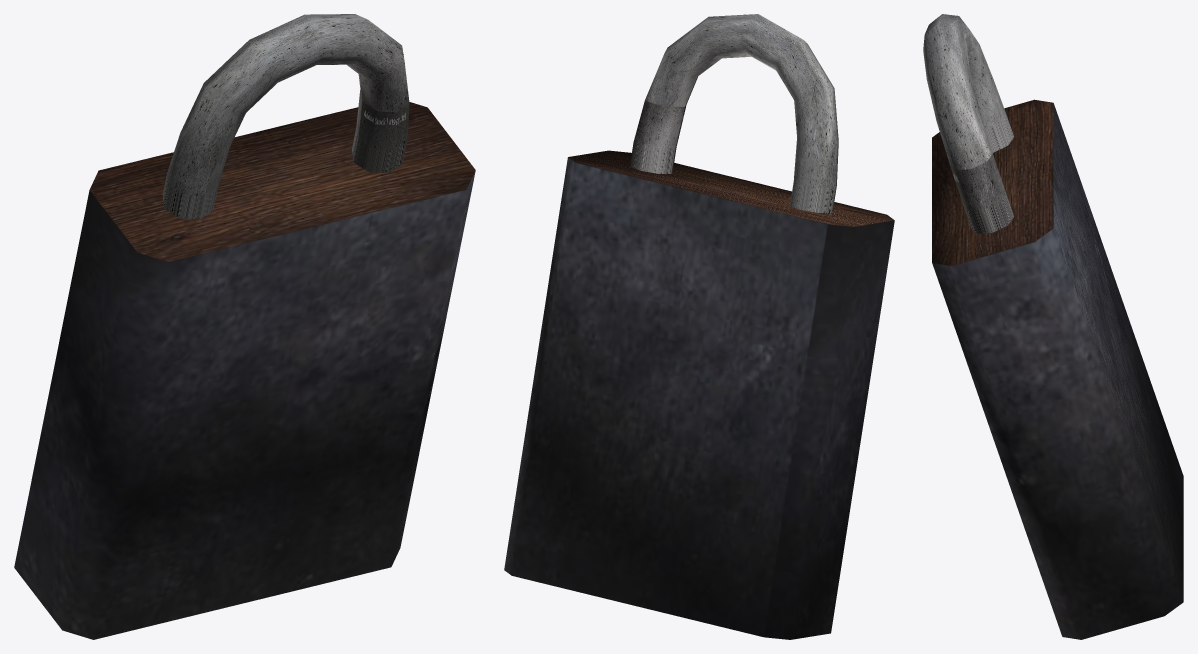
The model's file is The lock.fbx.
3 views of the same model, side by side, from view 1: azimuth 30°, elevation 25°; view 2: azimuth 150°, elevation 25°; view 3: azimuth 270°, elevation 25° (orthographic). The views are drawn at different scales.
Visible parts, largest first — view 1: Cube.014; view 2: Cube.014; view 3: Cube.014.
Part boxes in pixels (left/top/right/bottom): Cube.014: left=14, top=14, right=475, bottom=639; Cube.014: left=504, top=14, right=894, bottom=639; Cube.014: left=923, top=14, right=1183, bottom=639.
Size of the model in its own units: 3.06 by 2.37 by 5.51.
3 materials, 3 textured.
